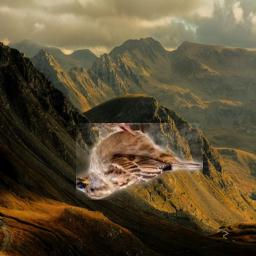Sparrow: (76, 123, 203, 200)
